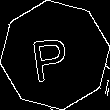P_N: (33, 27, 77, 83)
